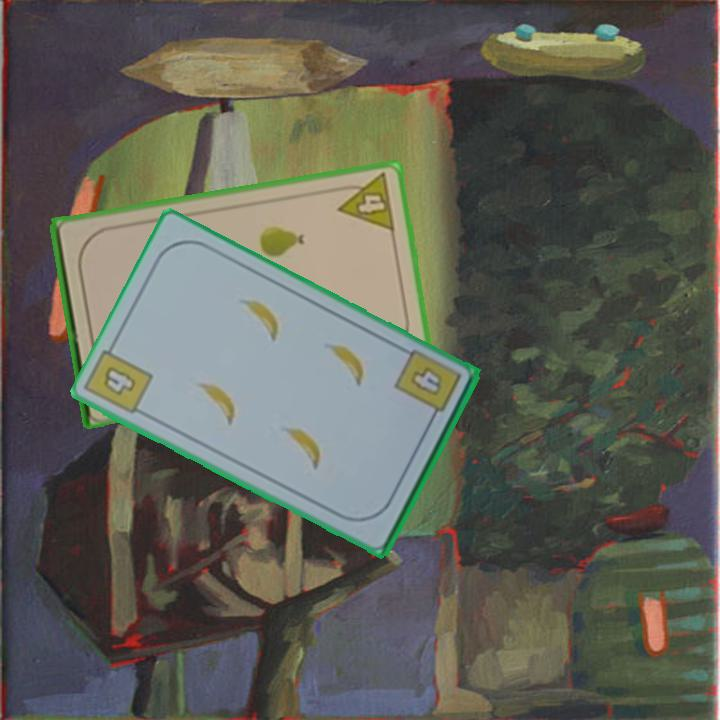4b: (391, 346, 464, 427), (99, 362, 139, 399)
4p: (331, 170, 398, 234)
